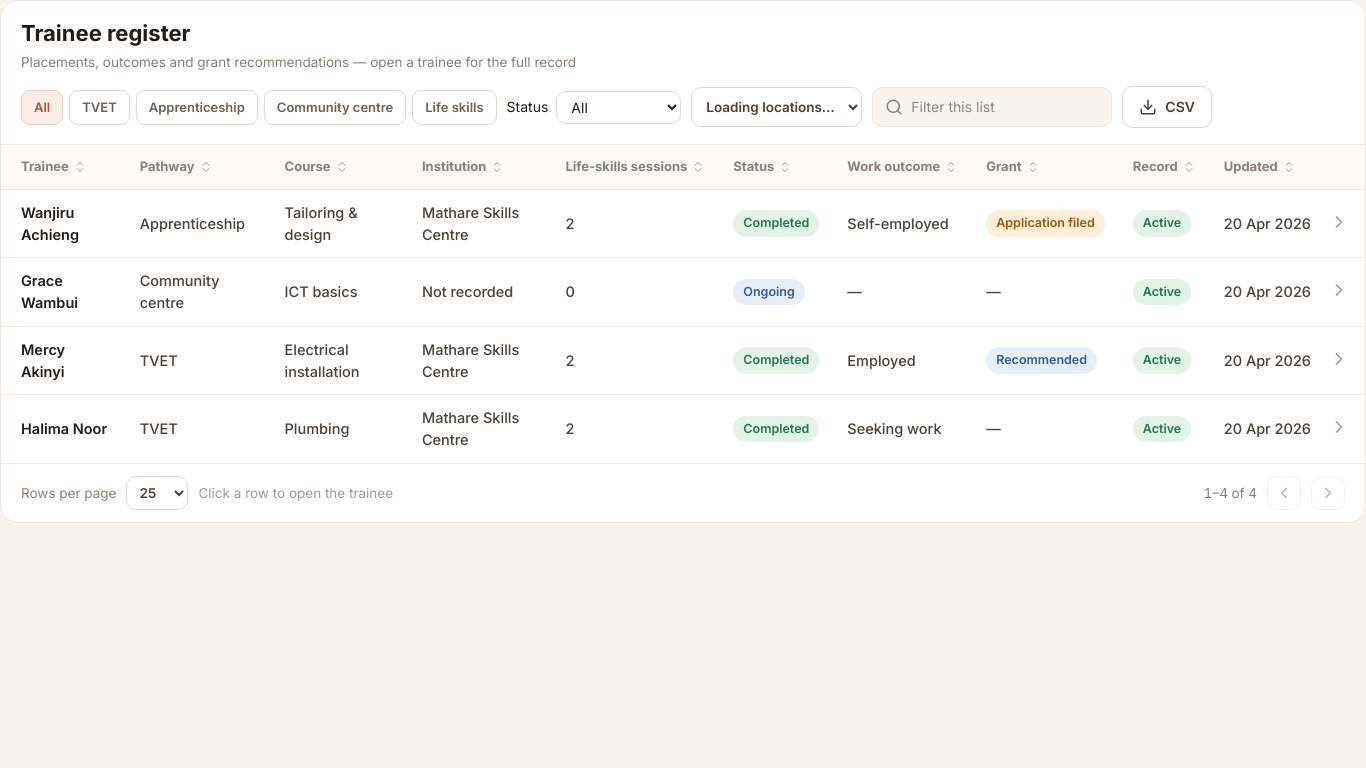
trainee register › asks the API for the pathway, status and search the user picks
The width and height of the screenshot is (1366, 768).
Click the button "TVET" at (100, 107), box [69, 90, 130, 125]
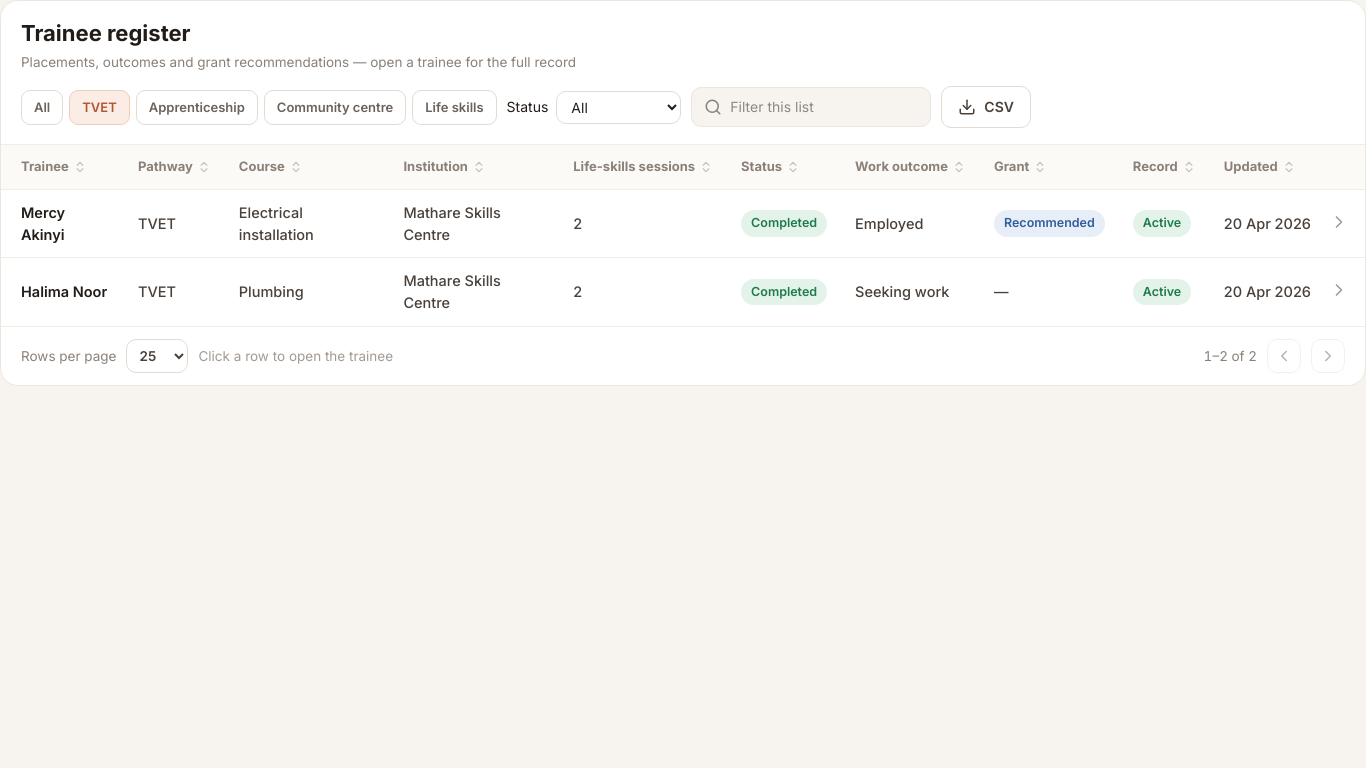
Check: the text "Mercy Akinyi" is shown, box [21, 204, 65, 243]
Check: the text "Wanjiru Achieng" is gone
Click the button "All" at (42, 107), box [21, 90, 63, 125]
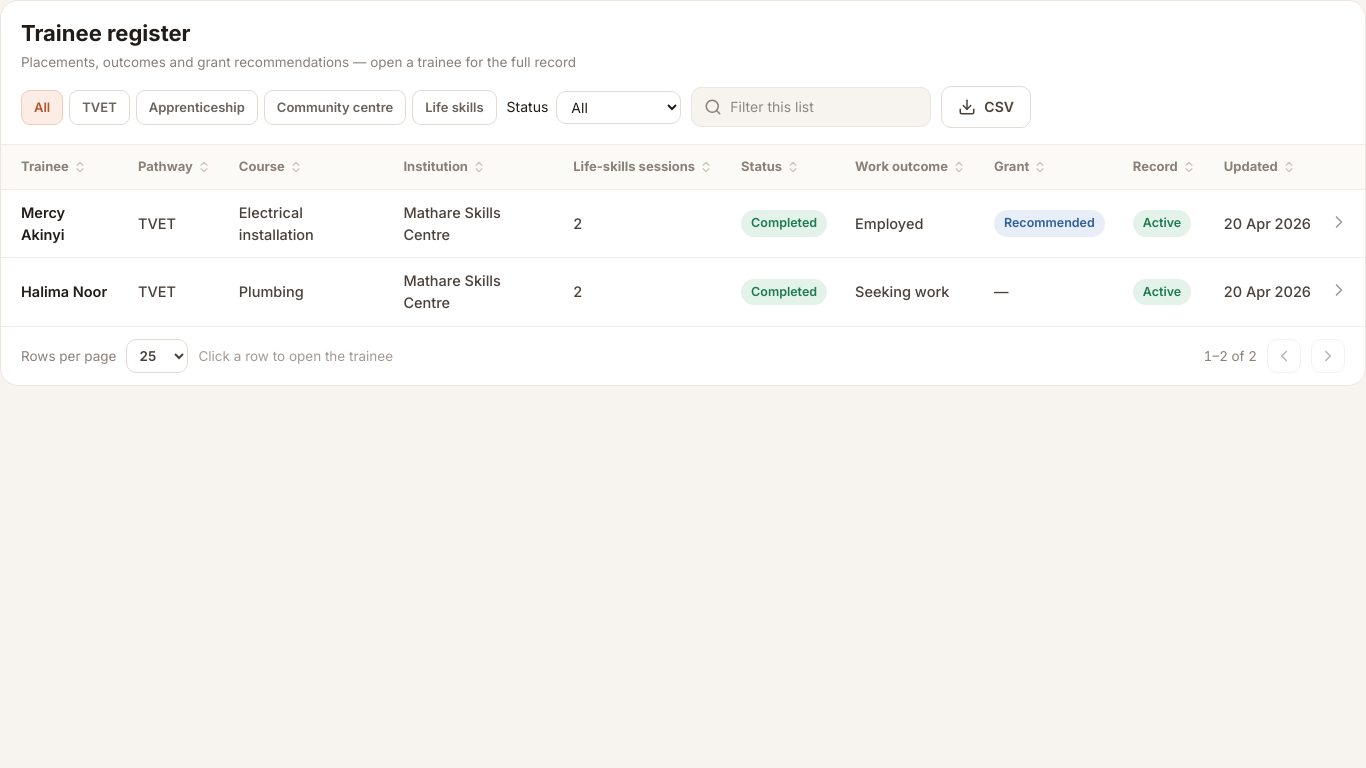
Select "Ongoing" in the dropdown labelled "Status" at (619, 107), box [556, 91, 681, 124]
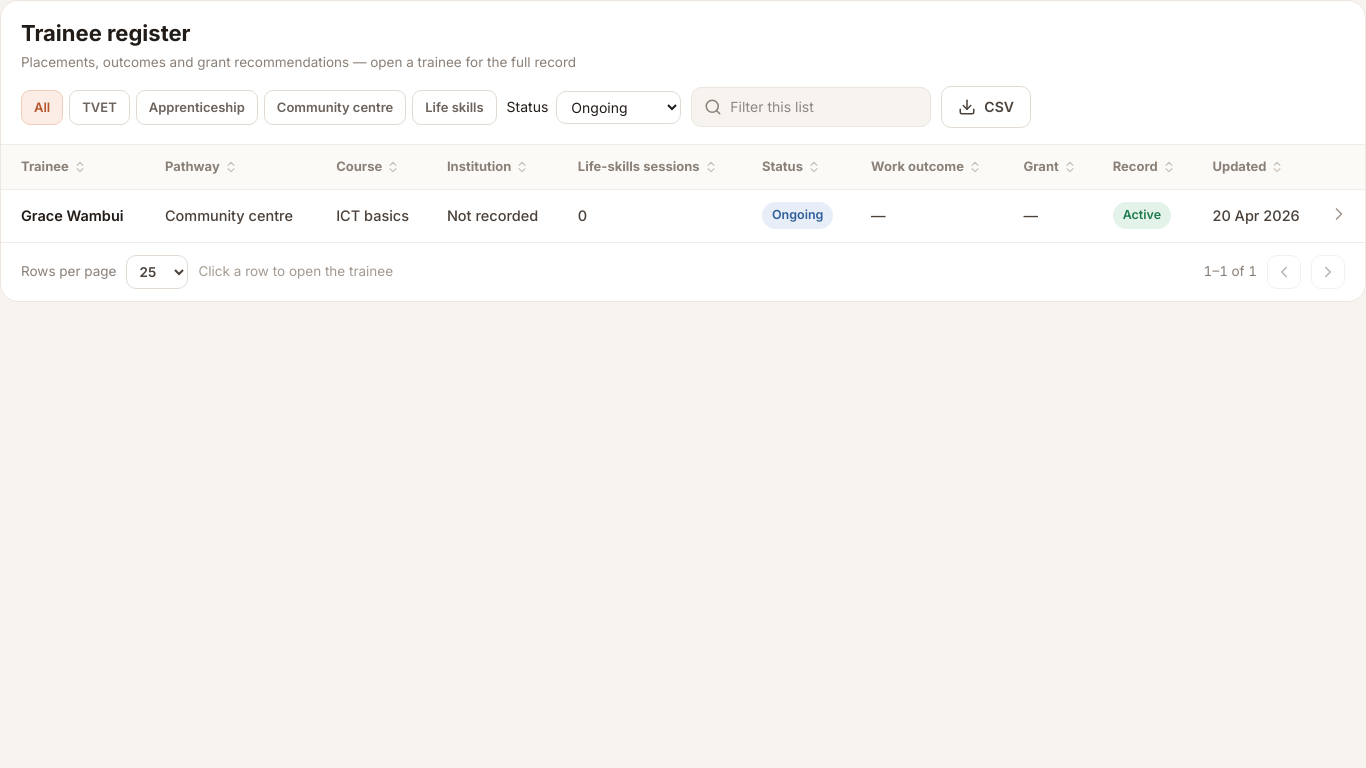
Check: the text "Grace Wambui" is shown, box [21, 207, 124, 224]
Check: the text "Mercy Akinyi" is gone
Select "All" in the dropdown labelled "Status" at (619, 107), box [556, 91, 681, 124]
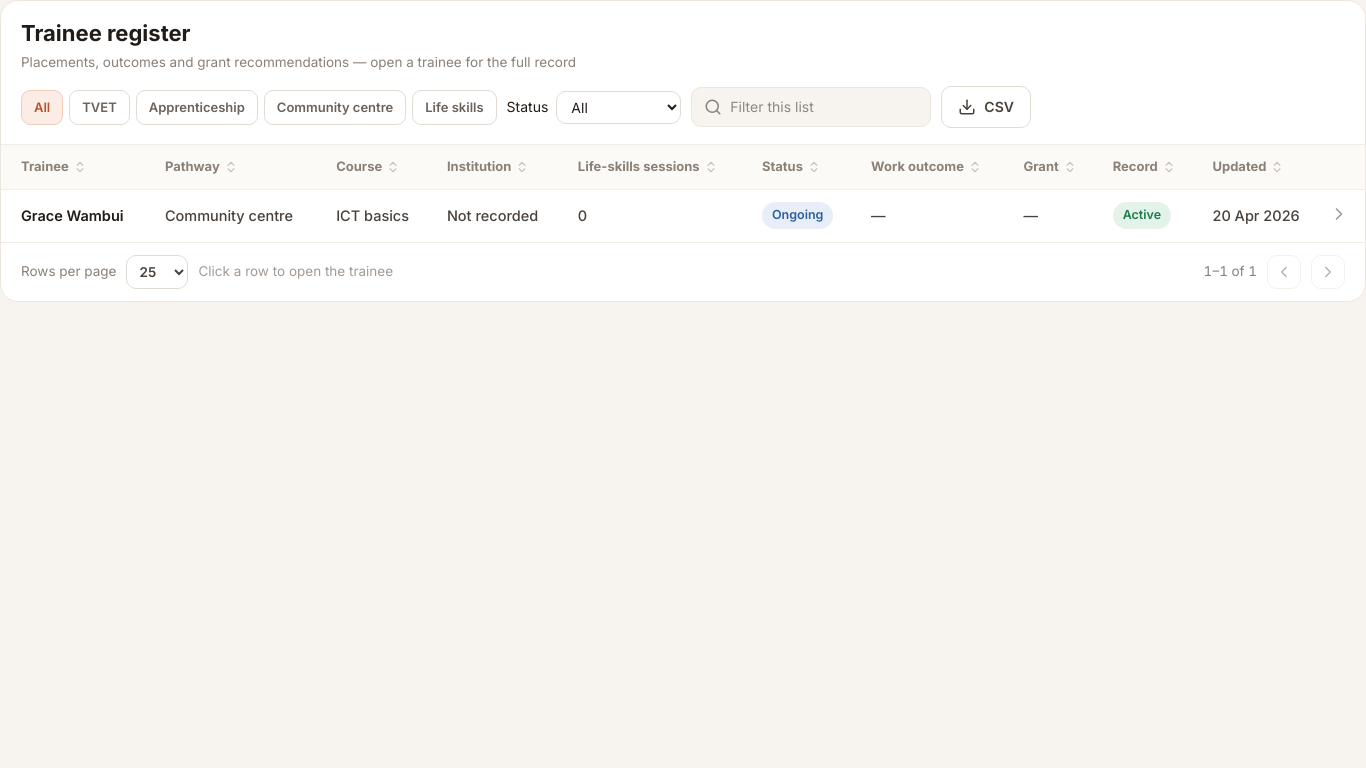
Type "tailoring" into the search field named "Search trainees" at (824, 107), box [730, 97, 918, 117]
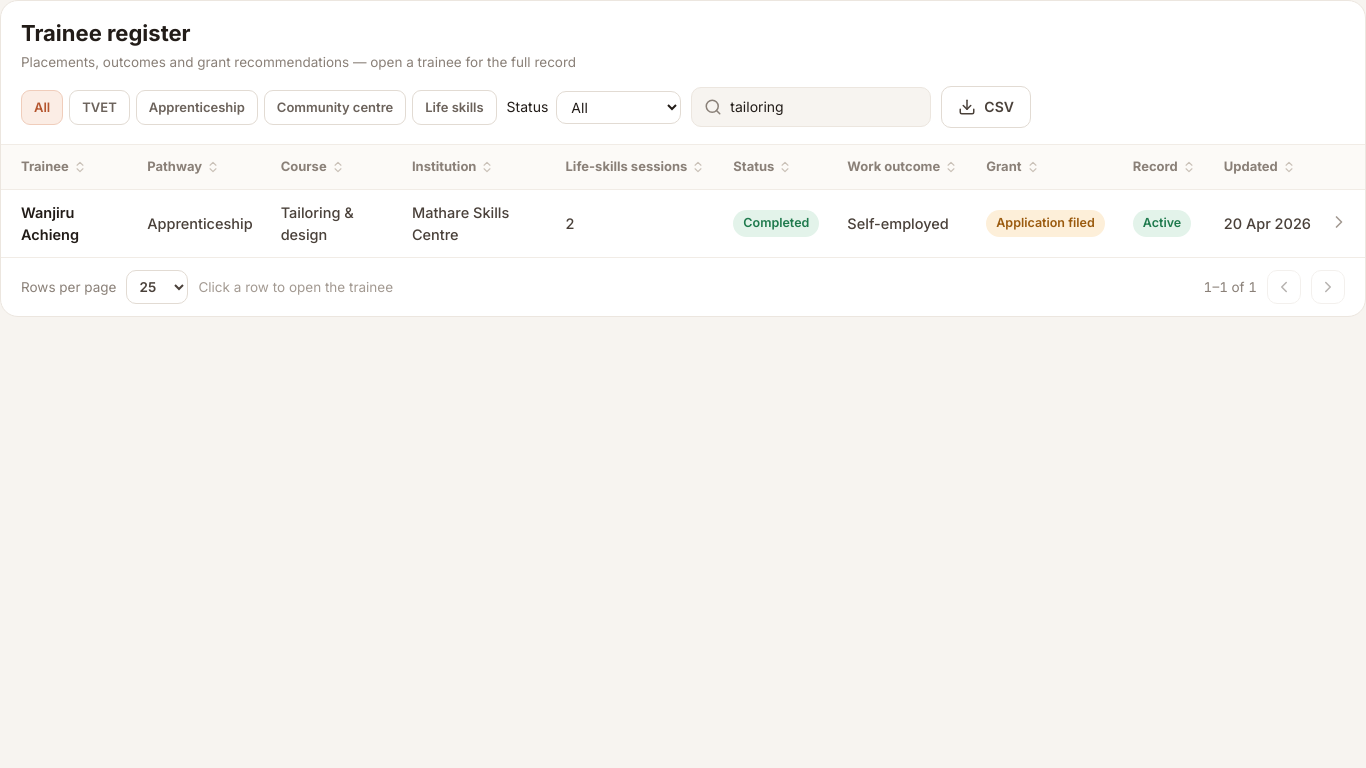
Check: the text "Halima Noor" is not shown
Check: the text "Wanjiru Achieng" is shown, box [21, 204, 79, 243]
